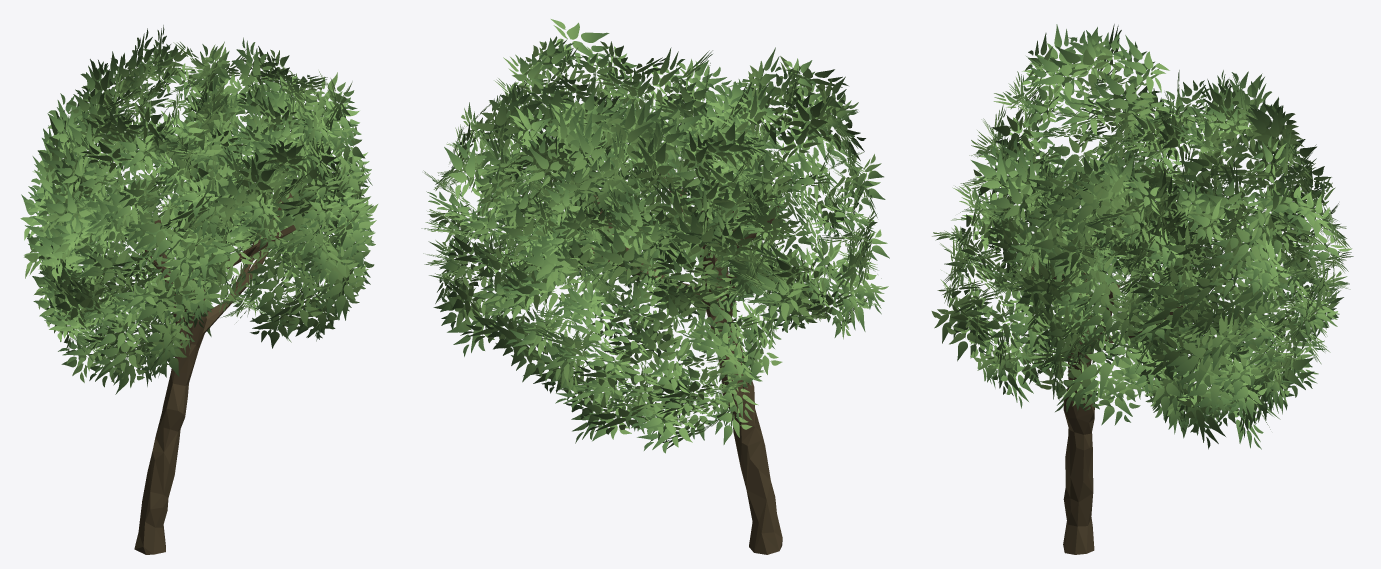
The model's file is SM_tree_04.fbx.
The picture shows the model from 3 angles, left to right: view 1: azimuth 30°, elevation 25°; view 2: azimuth 150°, elevation 25°; view 3: azimuth 270°, elevation 25°; orthographic projection. The views are drawn at different scales.
Parts seen in each view (by area): view 1: tree_020; view 2: tree_020; view 3: tree_020.
Boxes of the visible parts, x1,y1,x2,y2 form: tree_020: [20, 25, 377, 554]; tree_020: [421, 19, 889, 554]; tree_020: [931, 24, 1353, 554].
Size of the model in its own units: 558 by 667 by 519.
